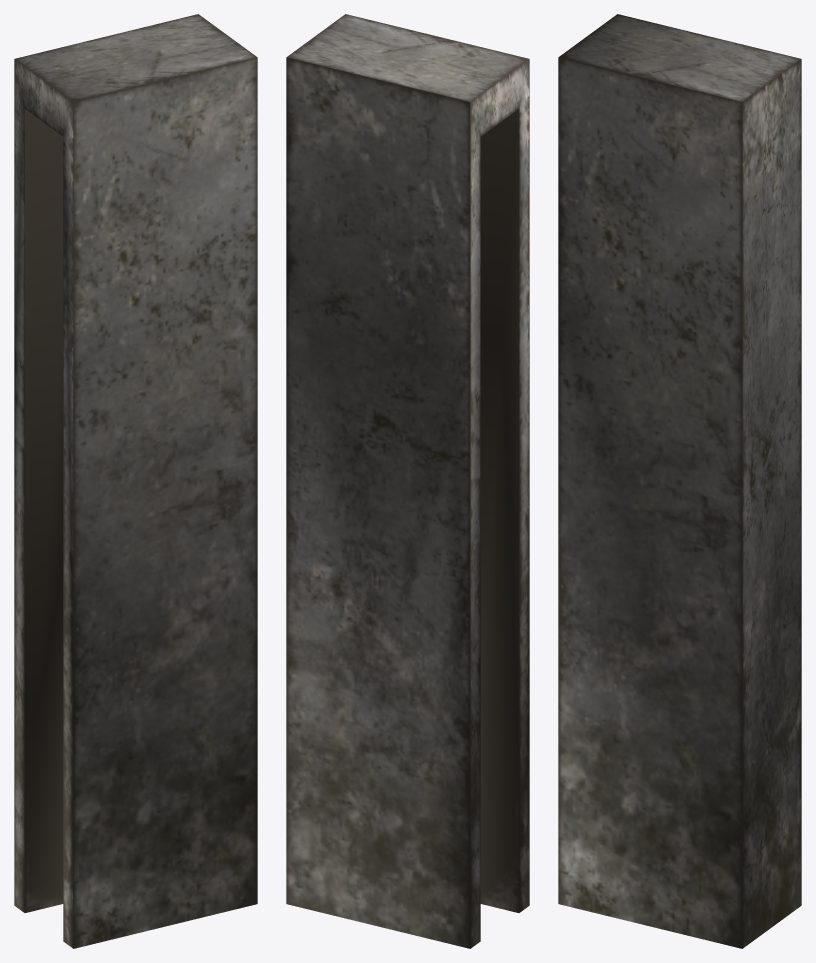
Rendered from Fence _1.fbx.
3 renders of one model, left to right at view 1: azimuth 30°, elevation 25°; view 2: azimuth 150°, elevation 25°; view 3: azimuth 330°, elevation 25°, orthographic.
Visible parts, largest first — view 1: Fence 1; view 2: Fence 1; view 3: Fence 1.
Part boxes in pixels (x1,y1,x2,y2): Fence 1: [14, 14, 257, 948]; Fence 1: [286, 14, 529, 948]; Fence 1: [558, 14, 801, 948].
Bounding box in the file's own units: 586 × 2578 × 326.
1 material, 1 textured.
